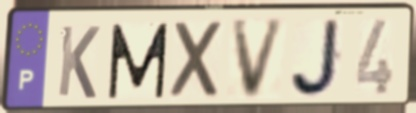4: (353, 16, 396, 99)
J: (288, 17, 344, 101)
K: (55, 23, 103, 102)
M: (106, 21, 171, 102)
V: (229, 16, 289, 103)
X: (169, 18, 228, 103)
